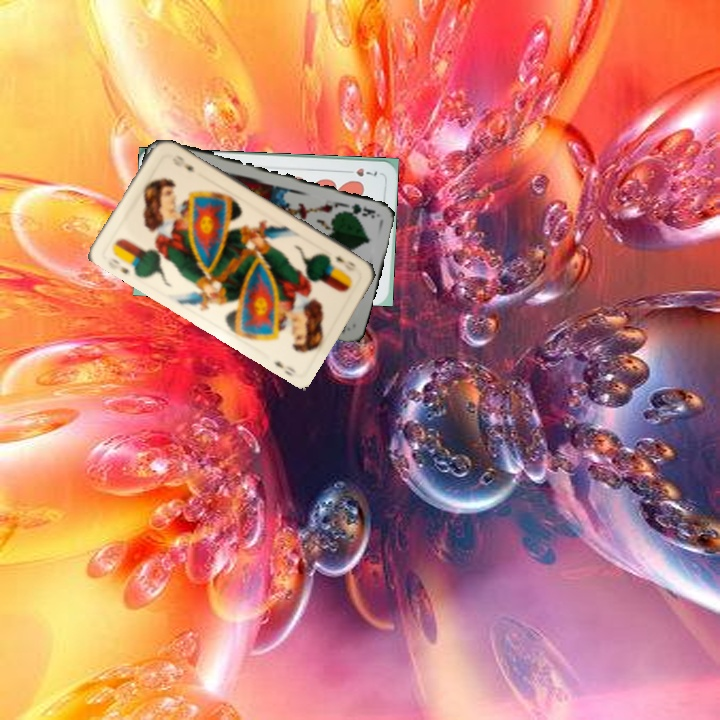EO: (104, 254, 134, 279), (331, 252, 359, 274)
GK: (340, 200, 380, 221)
H7: (341, 164, 380, 179)
